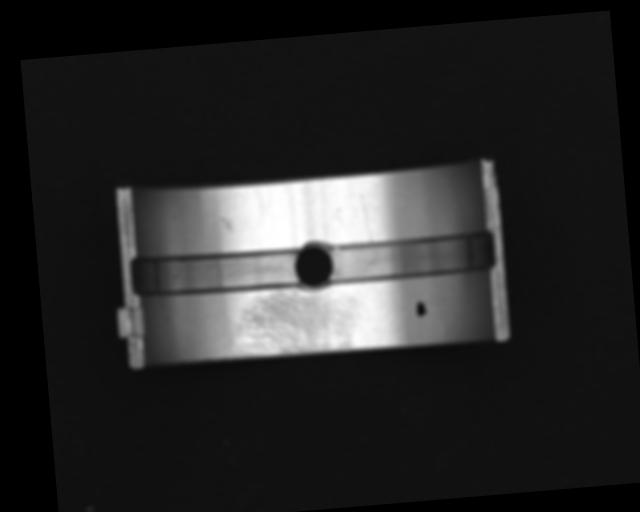blot: (414, 299, 428, 317)
bruise: (218, 214, 234, 232)
gap: (128, 245, 303, 301), (326, 230, 496, 286)
hole: (292, 236, 336, 294)
nick: (361, 203, 372, 243)
scratch: (230, 282, 364, 359)
